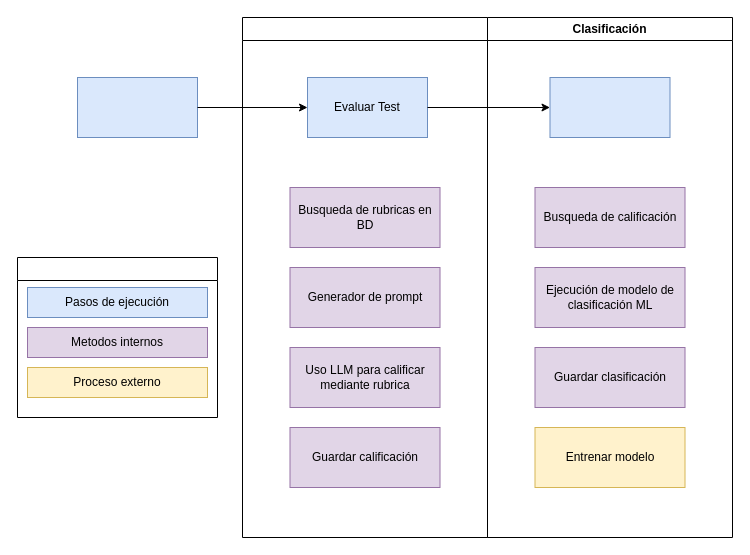
Some shapes in this 750 by 555 pixel diagram are drawn without their labels. Each missing label, with the box of its shape:
Clasificar estudiante: (549, 76, 670, 138)
Diccionario colores: (16, 256, 218, 418)
Evaluación: (242, 16, 488, 538)
Test Resuelto: (76, 76, 198, 138)
